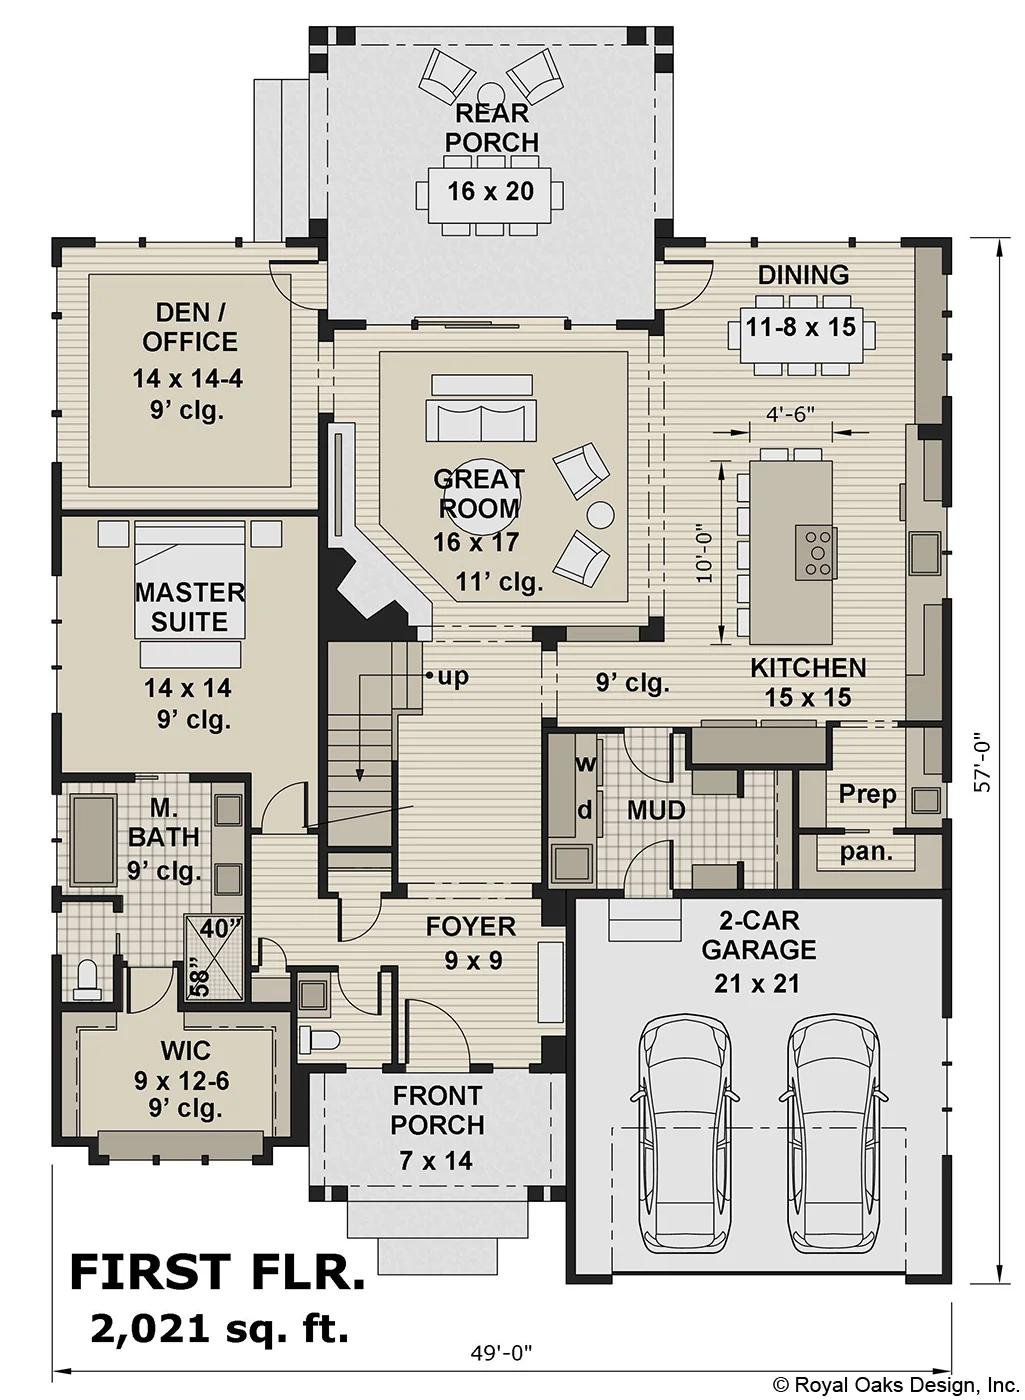room: (574, 899, 950, 1276), (661, 241, 948, 728), (325, 323, 659, 633), (55, 240, 323, 510), (54, 515, 322, 774), (546, 727, 948, 890), (57, 776, 243, 1003), (55, 1007, 290, 1142), (296, 970, 395, 1066)
